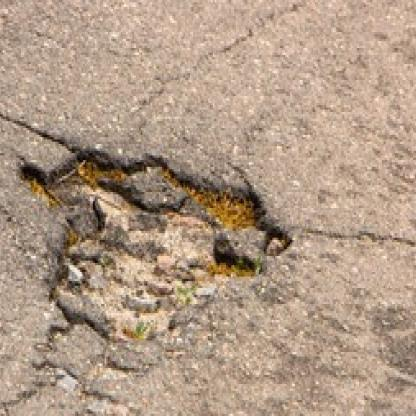pothole: (15, 142, 294, 361)
